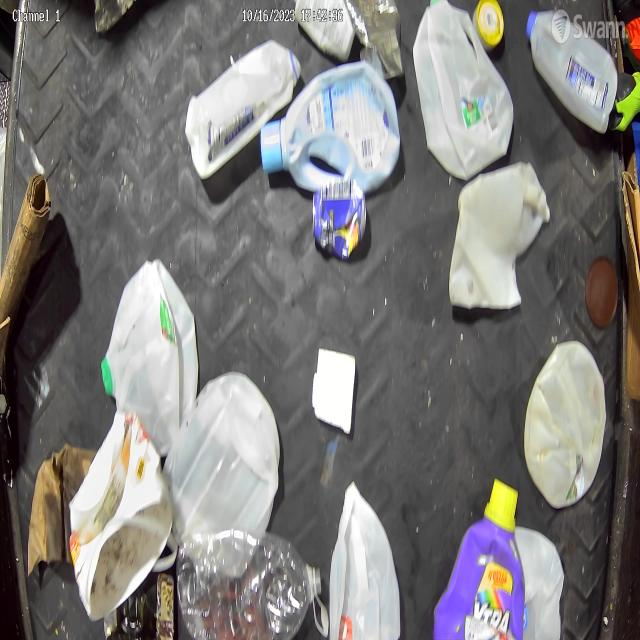can: (309, 180, 372, 266)
milk_jug: (164, 372, 281, 546), (101, 258, 198, 453), (415, 0, 513, 177), (184, 43, 304, 173), (449, 164, 547, 312), (525, 342, 607, 510), (527, 3, 622, 130), (328, 480, 401, 640), (514, 522, 565, 640)
non_white_jug: (262, 64, 400, 196), (434, 480, 524, 640)
plastic_bottle: (177, 530, 322, 640)
